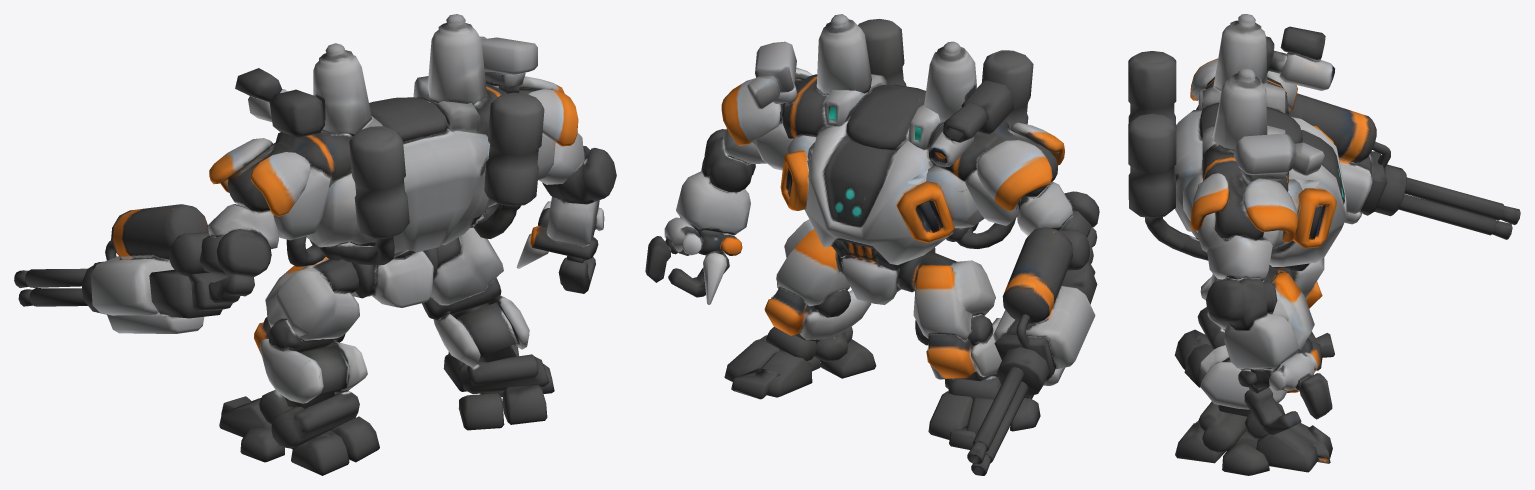
Rendered from lancaster.glb.
3 views of the same model, side by side, from view 1: azimuth 30°, elevation 25°; view 2: azimuth 150°, elevation 25°; view 3: azimuth 270°, elevation 25° (orthographic). The views are drawn at different scales.
Parts seen in each view (by area): view 1: torso, forearm_l, shoulder_l, foot_l, shin_l, foot_r, thigh_l, shin_r, upperarm_l, forearm_r, thigh_r, pod_l (+8 smaller); view 2: torso, forearm_l, shoulder_l, foot_r, shoulder_r, thigh_l, forearm_r, vent_l, foot_l, thigh_r, shin_r, shin_l (+10 smaller); view 3: torso, shoulder_r, foot_r, forearm_l, forearm_r, barrel_l, pod_r, pod_l, vent_r, shin_r, upperarm_r, foot_l (+7 smaller).
Boxes of the visible parts, x1,y1,x2,y2 form: torso: [286, 14, 544, 266]; forearm_l: [81, 204, 254, 333]; shoulder_l: [209, 129, 352, 240]; foot_l: [219, 390, 379, 475]; shin_l: [254, 317, 367, 408]; foot_r: [443, 344, 554, 430]; thigh_l: [265, 257, 359, 341]; shin_r: [422, 277, 529, 367]; upperarm_l: [199, 204, 278, 277]; forearm_r: [542, 146, 616, 245]; thigh_r: [431, 227, 503, 305]; pod_l: [235, 68, 325, 137]; torso: [804, 14, 1033, 265]; forearm_l: [993, 227, 1097, 396]; shoulder_l: [928, 120, 1064, 225]; foot_r: [724, 326, 876, 399]; shoulder_r: [721, 67, 828, 170]; thigh_l: [913, 251, 995, 340]; forearm_r: [676, 129, 755, 235]; vent_l: [896, 165, 984, 242]; foot_l: [928, 375, 1040, 449]; thigh_r: [776, 219, 850, 305]; shin_r: [764, 283, 871, 343]; shin_l: [915, 314, 1001, 381]; torso: [1128, 14, 1347, 266]; shoulder_r: [1190, 143, 1297, 252]; foot_r: [1175, 401, 1332, 475]; forearm_l: [1288, 93, 1406, 224]; forearm_r: [1206, 278, 1298, 369]; barrel_l: [1398, 177, 1520, 239]; pod_r: [1233, 133, 1324, 186]; pod_l: [1266, 26, 1334, 90]; vent_r: [1182, 174, 1336, 248]; shin_r: [1200, 338, 1320, 416]; upperarm_r: [1207, 233, 1272, 280]; foot_l: [1174, 307, 1334, 387].
Size of the model in its own units: 4.57 by 3.6 by 3.47.
1 material, 1 textured.
